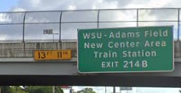1: (37, 51, 41, 60), (59, 50, 63, 58), (56, 51, 60, 58)
3: (40, 51, 46, 59)
overheadsign: (34, 49, 72, 61)
